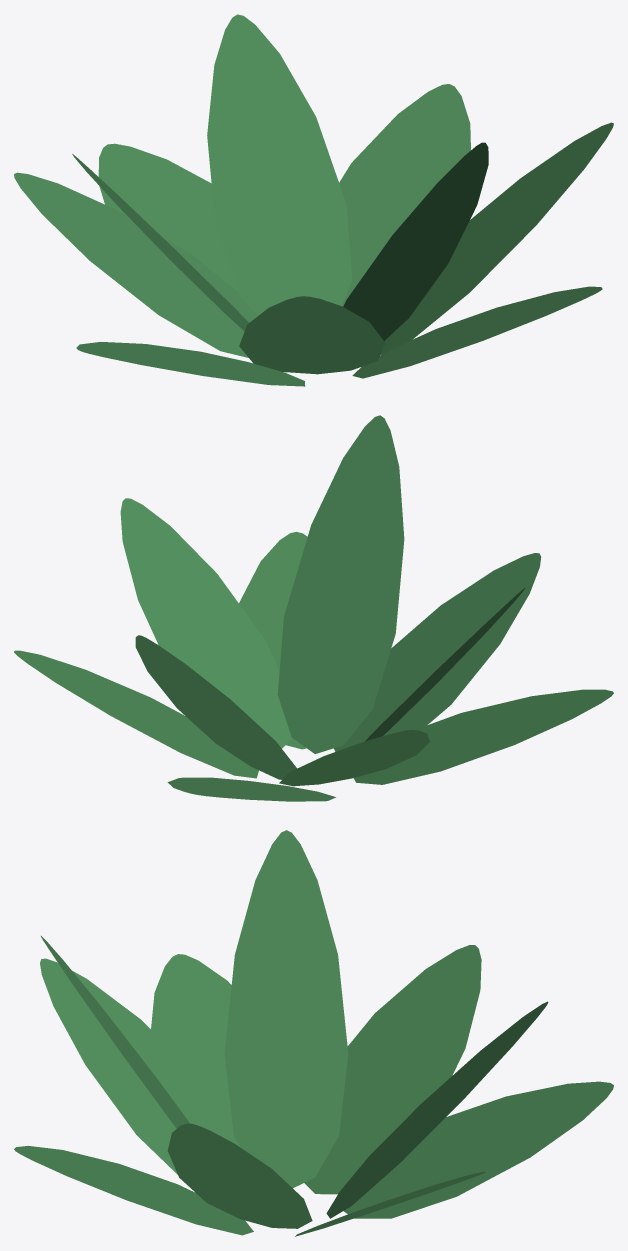
3 renders of one model, top to bottom at view 1: azimuth 30°, elevation 25°; view 2: azimuth 150°, elevation 25°; view 3: azimuth 270°, elevation 25°, orthographic. The views are drawn at different scales.
Visible parts, largest first — view 1: GrassShort; view 2: GrassShort; view 3: GrassShort.
Boxes of the visible parts, bbox=[...] form: GrassShort: bbox=[14, 14, 613, 386]; GrassShort: bbox=[14, 415, 613, 801]; GrassShort: bbox=[14, 830, 613, 1236].
Bounding box in the file's own units: 0.3167 × 0.165 × 0.3071.
Materials: 1 (1 with a texture image).
